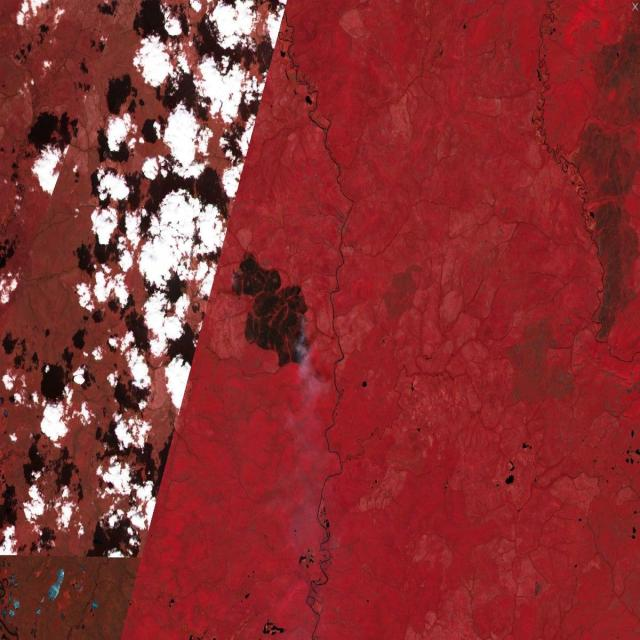fire: (230, 264, 310, 359)
